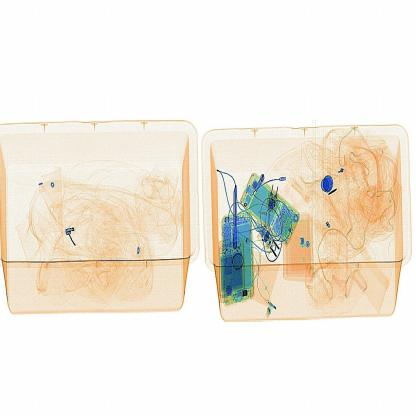pliers: (224, 174, 250, 253)
